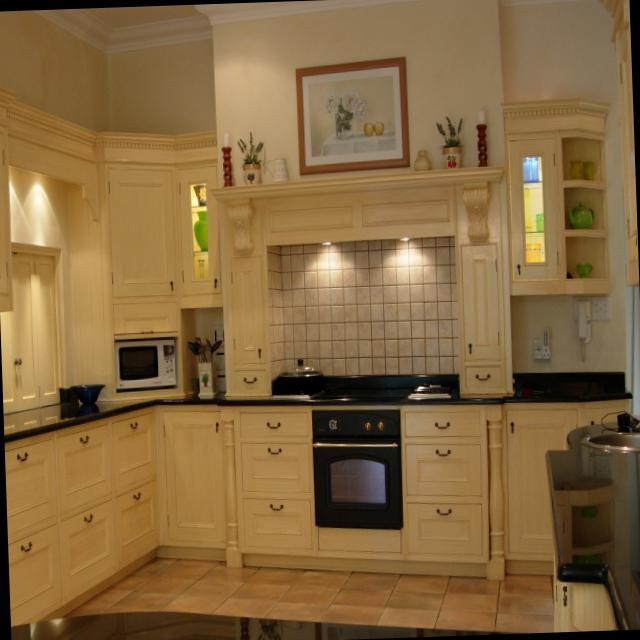bowl -X: (71, 384, 104, 403)
bowls: (526, 243, 540, 262)
cabinet door: (210, 166, 510, 396), (502, 97, 611, 295), (599, 0, 639, 289), (553, 552, 619, 632)
cabinets: (156, 399, 630, 581), (0, 84, 222, 413), (8, 407, 159, 622)
candle holder: (477, 109, 487, 163), (221, 133, 231, 185)
candle sticks: (197, 259, 205, 278)
ceiling beam: (39, 0, 410, 44), (76, 6, 202, 33)
counter: (3, 391, 270, 442), (457, 370, 633, 403)
counter bottom: (548, 414, 640, 630)
curtain crop: (625, 287, 640, 413)
floor -X: (63, 557, 553, 632)
glassware: (522, 155, 543, 259)
handle bar: (267, 447, 281, 457)
jar -X: (414, 149, 430, 172)
light fixture: (397, 233, 412, 240), (321, 239, 333, 247)
light switch: (592, 295, 613, 321)
microwave oven: (116, 339, 176, 388)
mug: (265, 157, 291, 182)
outlet: (533, 327, 551, 362)
oven cloth: (313, 409, 402, 524)
phone charger: (572, 296, 592, 362)
picture crop: (294, 55, 409, 173)
pot hanger: (281, 356, 321, 387), (567, 161, 581, 178), (583, 160, 595, 179)
potted herb: (435, 113, 463, 167), (238, 131, 264, 182)
sink basin: (583, 429, 640, 448)
stovetop: (271, 378, 457, 402)
table and chairs: (13, 611, 489, 640)
teapot: (568, 198, 595, 225)
urn: (573, 260, 592, 277)
utencil canister: (187, 334, 222, 396)
vase -X: (193, 208, 210, 248), (192, 184, 206, 206)
wall clock: (0, 0, 625, 392)
